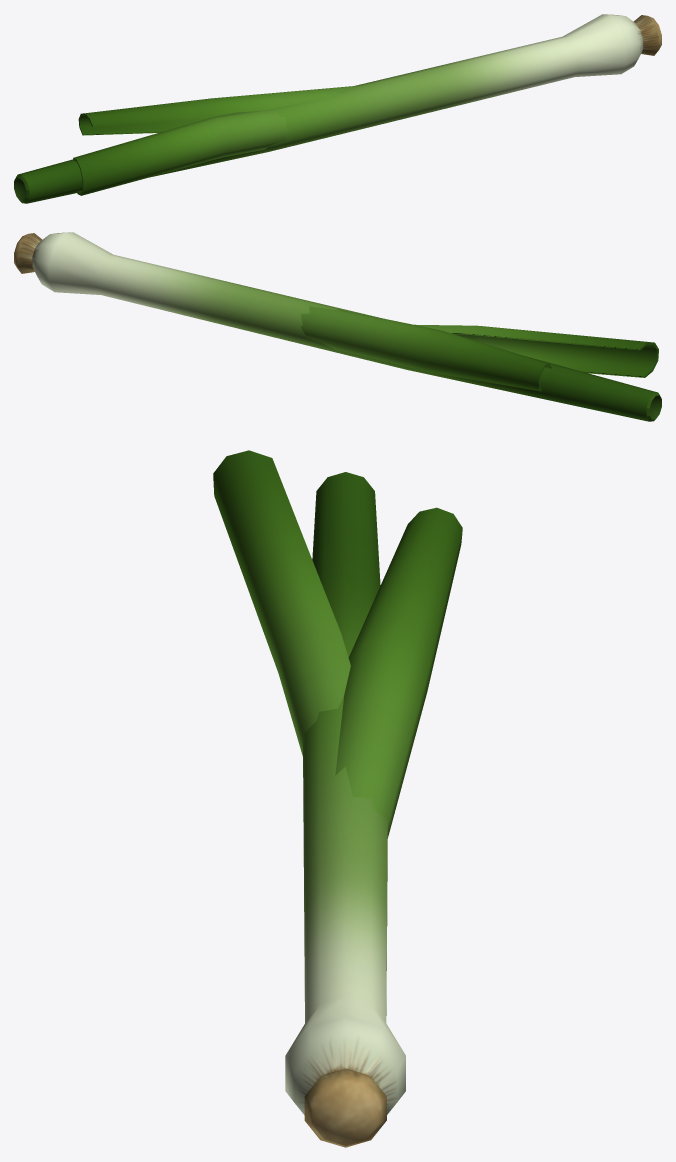
The model's file is Green_Onion_02.fbx.
3 renders of one model, top to bottom at view 1: azimuth 30°, elevation 25°; view 2: azimuth 150°, elevation 25°; view 3: azimuth 270°, elevation 25°, orthographic. The views are drawn at different scales.
Parts seen in each view (by area): view 1: Green_Onion_02; view 2: Green_Onion_02; view 3: Green_Onion_02.
Boxes of the visible parts, x1=… form: Green_Onion_02: x1=14, y1=14, x2=661, y2=203; Green_Onion_02: x1=14, y1=232, x2=661, y2=421; Green_Onion_02: x1=213, y1=450, x2=462, y2=1147.
Bounding box in the file's own units: 102 × 10.25 × 17.22.
